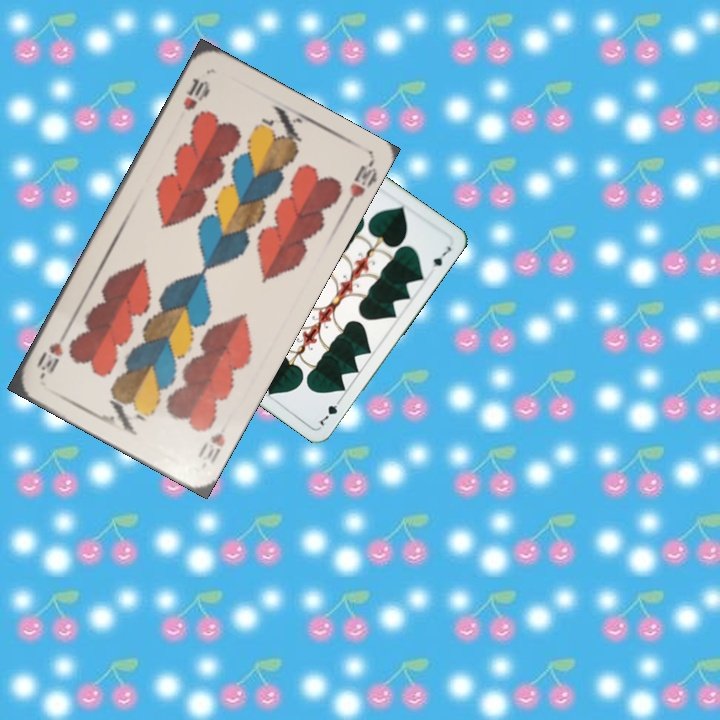G7: (314, 393, 345, 428)
H10: (193, 428, 228, 467), (178, 74, 212, 113)
